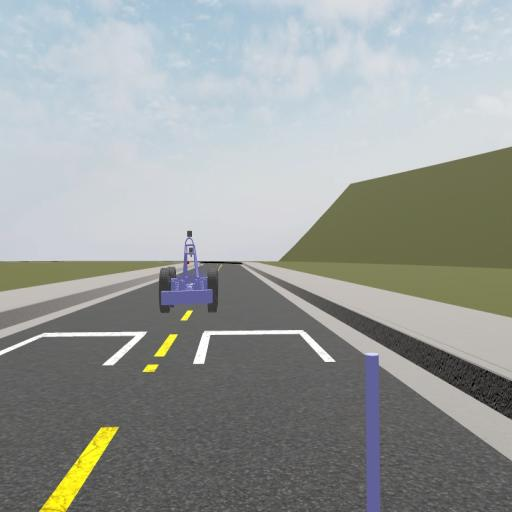ERP-42: (159, 229, 218, 312)
